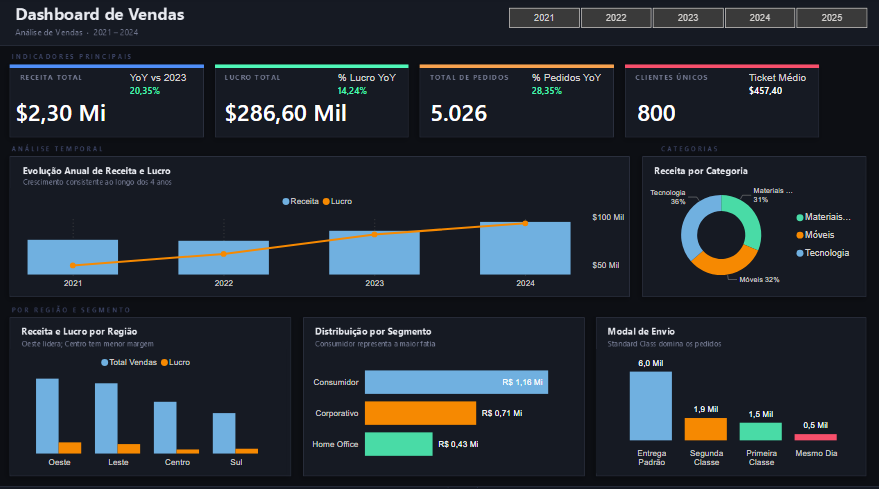

The page's visual inventory and layout, read from the dashboard file:
{"tool":"powerbi","page":{"name":"Página 1","canvas":[1280,720],"ordinal":0},"visuals":[{"type":"cardVisual","fields":{"Data":["dados_finais.Total Vendas"]},"box":[0,90.7,263.5,145.4],"z":0},{"type":"cardVisual","fields":{"Data":["dados_finais.Lucro Total"]},"box":[301,115.2,239,96.5],"z":1000},{"type":"cardVisual","fields":{"Data":["dados_finais.Pedidos Formatado"]},"box":[597.6,115.2,247.7,96.5],"z":2000},{"type":"cardVisual","fields":{"Data":["dados_finais.Clientes Unicos"]},"box":[895.7,115.2,204.5,96.5],"z":3000},{"type":"donutChart","fields":{"Y":["dados_finais.Total Vendas"],"Series":["dados_finais.categoria"]},"box":[933.1,257.8,318.2,169.9],"z":4000},{"type":"clusteredColumnChart","fields":{"Category":["dados_finais.regiao"],"Y":["dados_finais.Total Vendas","dados_finais.Lucro Total"]},"box":[20.2,506.9,400.3,178.6],"z":5000},{"type":"clusteredBarChart","fields":{"Category":["dados_finais.segmento"],"Y":["dados_finais.Total Vendas"]},"box":[446.4,506.9,398.9,178.6],"z":6000},{"type":"columnChart","fields":{"Category":["dados_finais.tipo_entrega"],"Y":["CountNonNull(dados_finais.id_pedido)"]},"box":[865.4,506.9,385.9,178.6],"z":7000},{"type":"lineClusteredColumnComboChart","fields":{"Y":["Sum(dados_finais.vendas)"],"Category":["Calendario.Ano"],"Y2":["Sum(dados_finais.lucro)"]},"box":[20.2,275,891.4,152.6],"z":8000},{"type":"cardVisual","fields":{"Data":["dados_finais.Receita YoY %"]},"box":[167,90.7,149.8,69.1],"z":9000},{"type":"cardVisual","fields":{"Data":["dados_finais.% Lucro YoY"]},"box":[466.6,90.7,144,69.1],"z":10000},{"type":"cardVisual","fields":{"Data":["dados_finais.% Pedidos YoY"]},"box":[745.9,90.7,299.5,69.1],"z":11000},{"type":"cardVisual","fields":{"Data":["dados_finais.Ticket Médio"]},"box":[1058.4,90.7,152.6,69.1],"z":12000},{"type":"slicer","fields":{"Values":["Calendario.Ano"]},"box":[714.2,8.6,565.9,43.2],"z":13000}]}

Visuals, with their boxes in screenshot pixels (x1, y1, x2, y2), scaled from the page's 1280x720 canvas onto the 879x489 screenshot:
cardVisual - dados_finais.Total Vendas: bbox(0, 62, 181, 160)
cardVisual - dados_finais.Lucro Total: bbox(207, 78, 371, 144)
cardVisual - dados_finais.Pedidos Formatado: bbox(410, 78, 580, 144)
cardVisual - dados_finais.Clientes Unicos: bbox(615, 78, 756, 144)
donutChart - dados_finais.Total Vendas x dados_finais.categoria: bbox(641, 175, 859, 290)
clusteredColumnChart - dados_finais.regiao x dados_finais.Total Vendas: bbox(14, 344, 289, 466)
clusteredBarChart - dados_finais.segmento x dados_finais.Total Vendas: bbox(307, 344, 580, 466)
columnChart - dados_finais.tipo_entrega x CountNonNull(dados_finais.id_pedido): bbox(594, 344, 859, 466)
lineClusteredColumnComboChart - Sum(dados_finais.vendas) x Calendario.Ano: bbox(14, 187, 626, 290)
cardVisual - dados_finais.Receita YoY %: bbox(115, 62, 218, 109)
cardVisual - dados_finais.% Lucro YoY: bbox(320, 62, 419, 109)
cardVisual - dados_finais.% Pedidos YoY: bbox(512, 62, 718, 109)
cardVisual - dados_finais.Ticket Médio: bbox(727, 62, 832, 109)
slicer - Calendario.Ano: bbox(490, 6, 878, 35)
